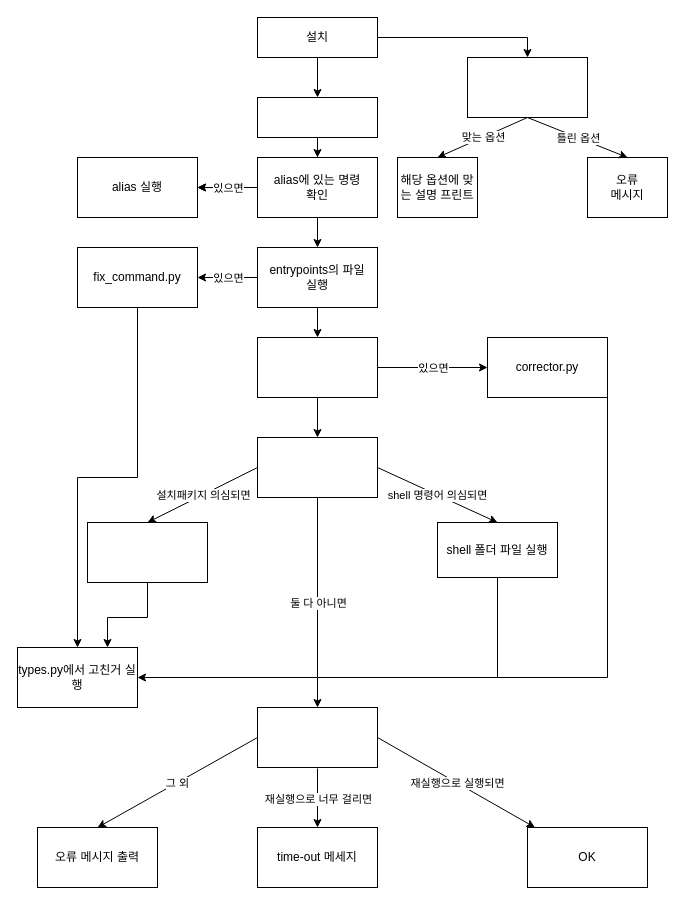
The diagram is 685 pixels wide and 905 high, and some of its shapes have lost their labels. The shapes that lost their labels are listed below. From the top down, each one's centre as x and y in pixels, then its label:
At [527,87]: "thefuck 실행".
At [317,117]: "명령어 틀림".
At [317,367]: "rules 폴더 확인".
At [317,467]: "exception 확인".
At [147,552]: "specific 폴더 파일 실행".
At [317,737]: "output_readers".
